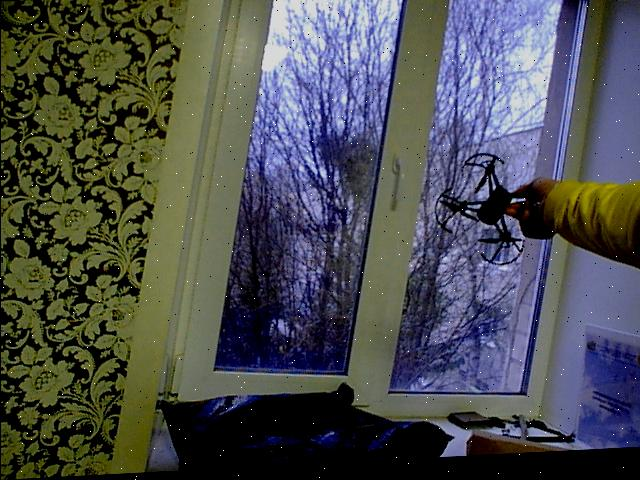drone: (424, 139, 554, 285)
